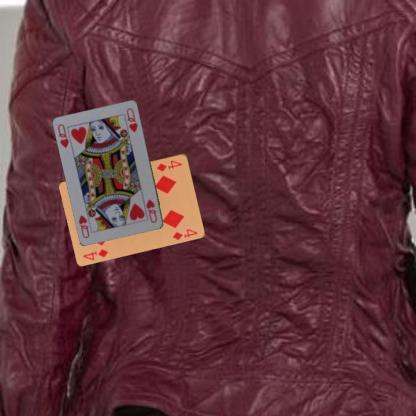4d: (154, 157, 183, 173), (80, 246, 110, 261)
Qh: (56, 121, 70, 150), (144, 197, 158, 224)
